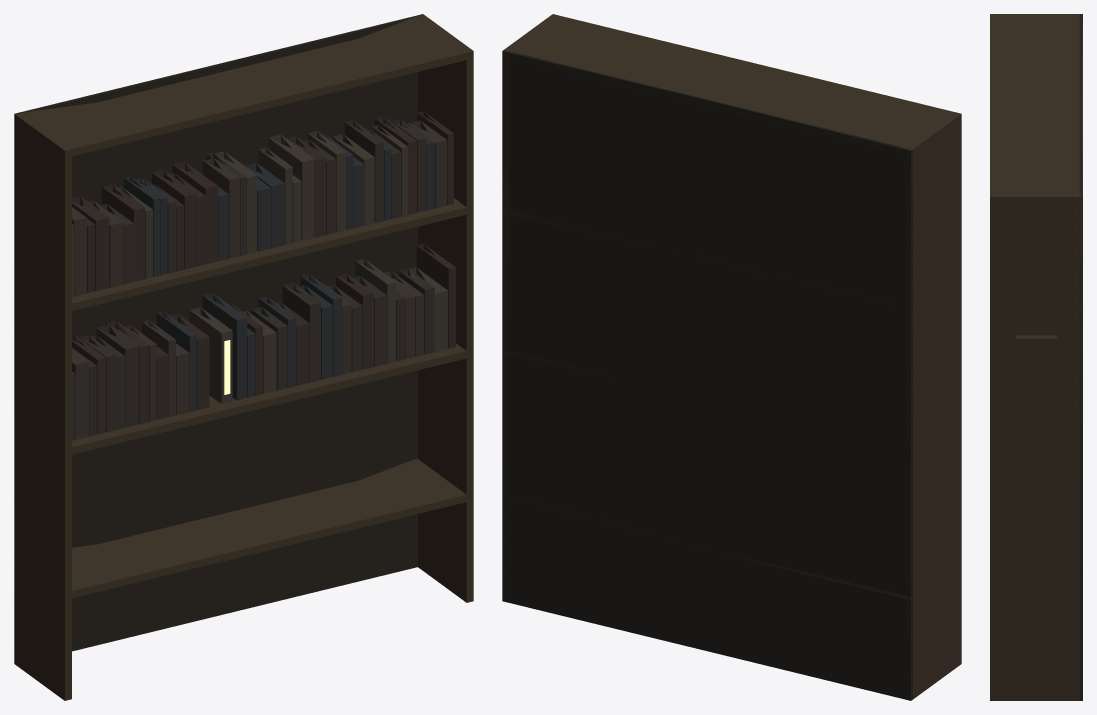
The model's file is shelf.glb.
3 views of the same model, side by side, from view 1: azimuth 30°, elevation 25°; view 2: azimuth 150°, elevation 25°; view 3: azimuth 270°, elevation 25° (orthographic). The views are drawn at different scales.
Visible parts, largest first — view 1: Shelf_Frame, Shelf_Back_Panel, Shelf_Books_Sleeping, Shelf_Hero_Spine; view 2: Shelf_Back_Panel, Shelf_Frame; view 3: Shelf_Frame, Shelf_Back_Panel.
Boxes of the visible parts, <box> form: Shelf_Frame: <box>14,14,473,700</box>; Shelf_Back_Panel: <box>14,14,423,664</box>; Shelf_Books_Sleeping: <box>72,111,455,440</box>; Shelf_Hero_Spine: <box>189,307,232,403</box>; Shelf_Back_Panel: <box>502,50,912,700</box>; Shelf_Frame: <box>502,14,961,700</box>; Shelf_Frame: <box>990,14,1082,700</box>; Shelf_Back_Panel: <box>1079,14,1082,700</box>.
Size of the model in its own units: 1400 by 1800 by 300.
